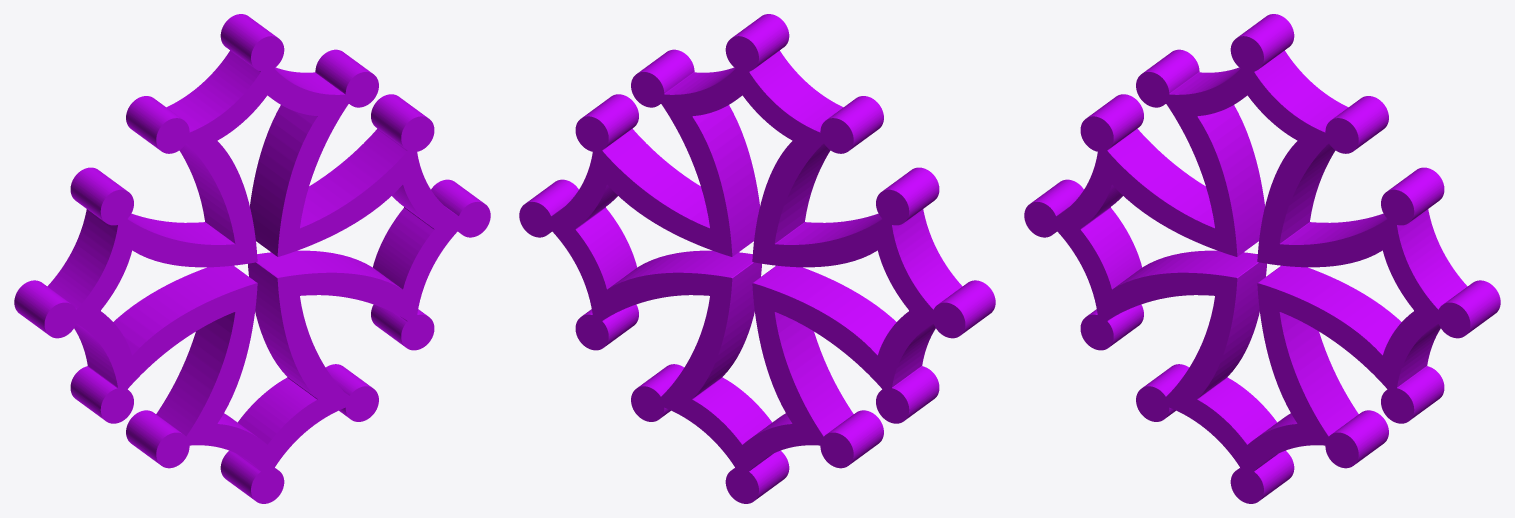
The model's file is croix-occitane.glb.
The picture shows the model from 3 angles, left to right: view 1: azimuth 30°, elevation 25°; view 2: azimuth 150°, elevation 25°; view 3: azimuth 330°, elevation 25°; orthographic projection.
Parts seen in each view (by area): view 1: CroixOccitane; view 2: CroixOccitane; view 3: CroixOccitane.
Boxes of the visible parts, <box> form: CroixOccitane: <box>14,14,490,503</box>; CroixOccitane: <box>519,14,995,503</box>; CroixOccitane: <box>1024,14,1500,503</box>.
Size of the model in its own units: 0.1702 by 0.1702 by 0.02.
